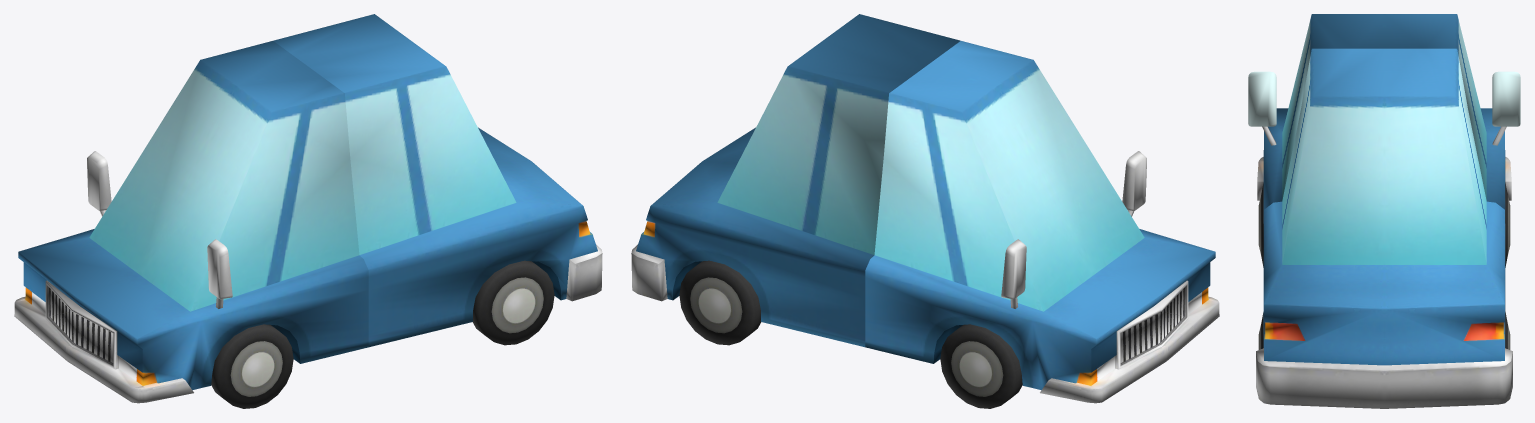
Rendered from car.glb.
The picture shows the model from 3 angles, left to right: view 1: azimuth 30°, elevation 25°; view 2: azimuth 150°, elevation 25°; view 3: azimuth 270°, elevation 25°; orthographic projection.
Visible parts, largest first — view 1: car; view 2: car; view 3: car.
Boxes of the visible parts, x1,y1,x2,y2 form: car: (14,14,602,408); car: (631,14,1219,408); car: (1248,14,1520,408).
Size of the model in its own units: 1.39 by 0.7397 by 0.6641.
Materials: 1 (1 with a texture image).
